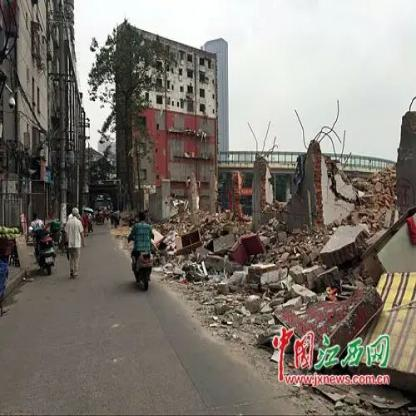rebar: (291, 95, 351, 165), (247, 121, 276, 163), (405, 94, 415, 111)
